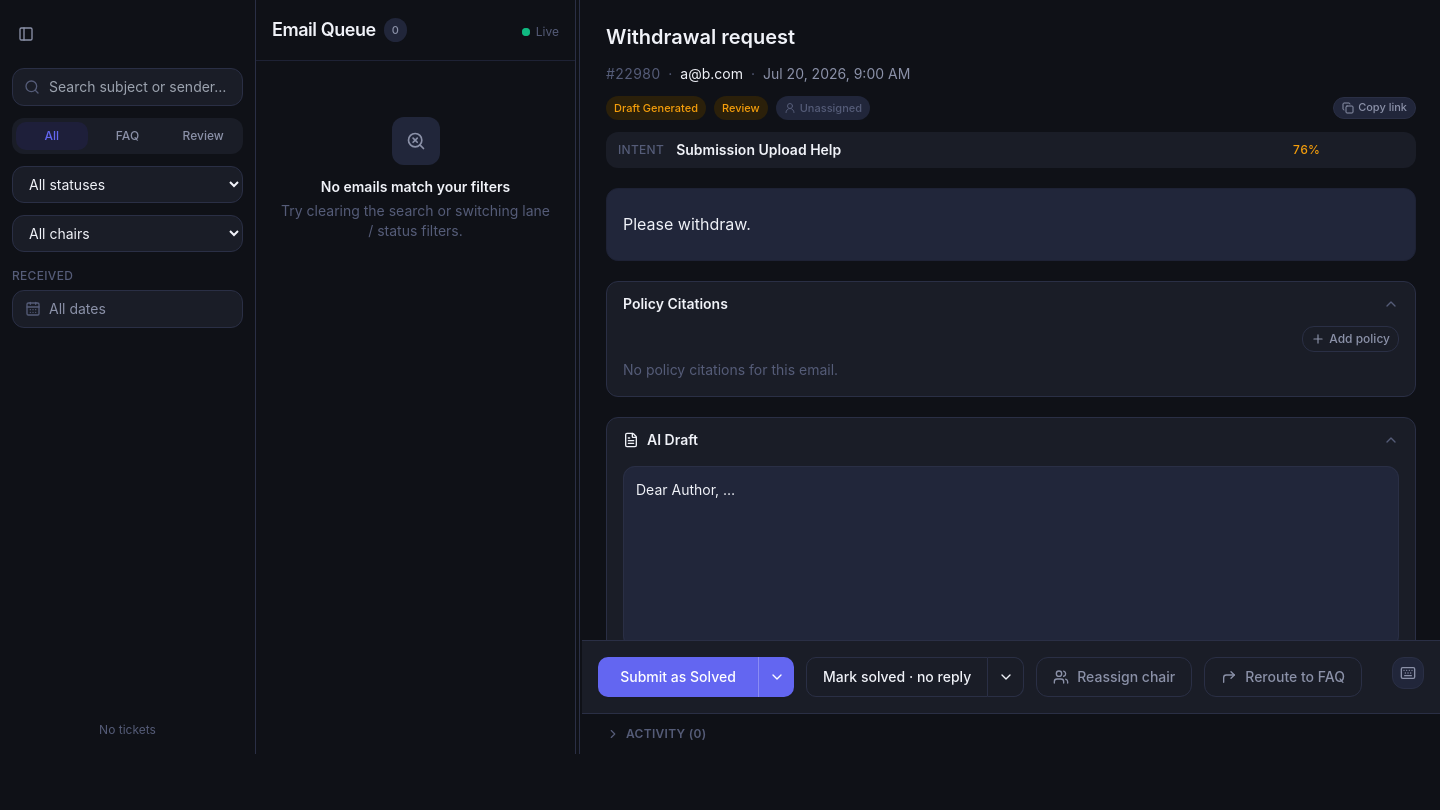
Test: forced-policy outcome banner › false → a visible warning, clearly distinct from success
Click the button "Add policy": (1351, 339) [1302,326,1399,352]
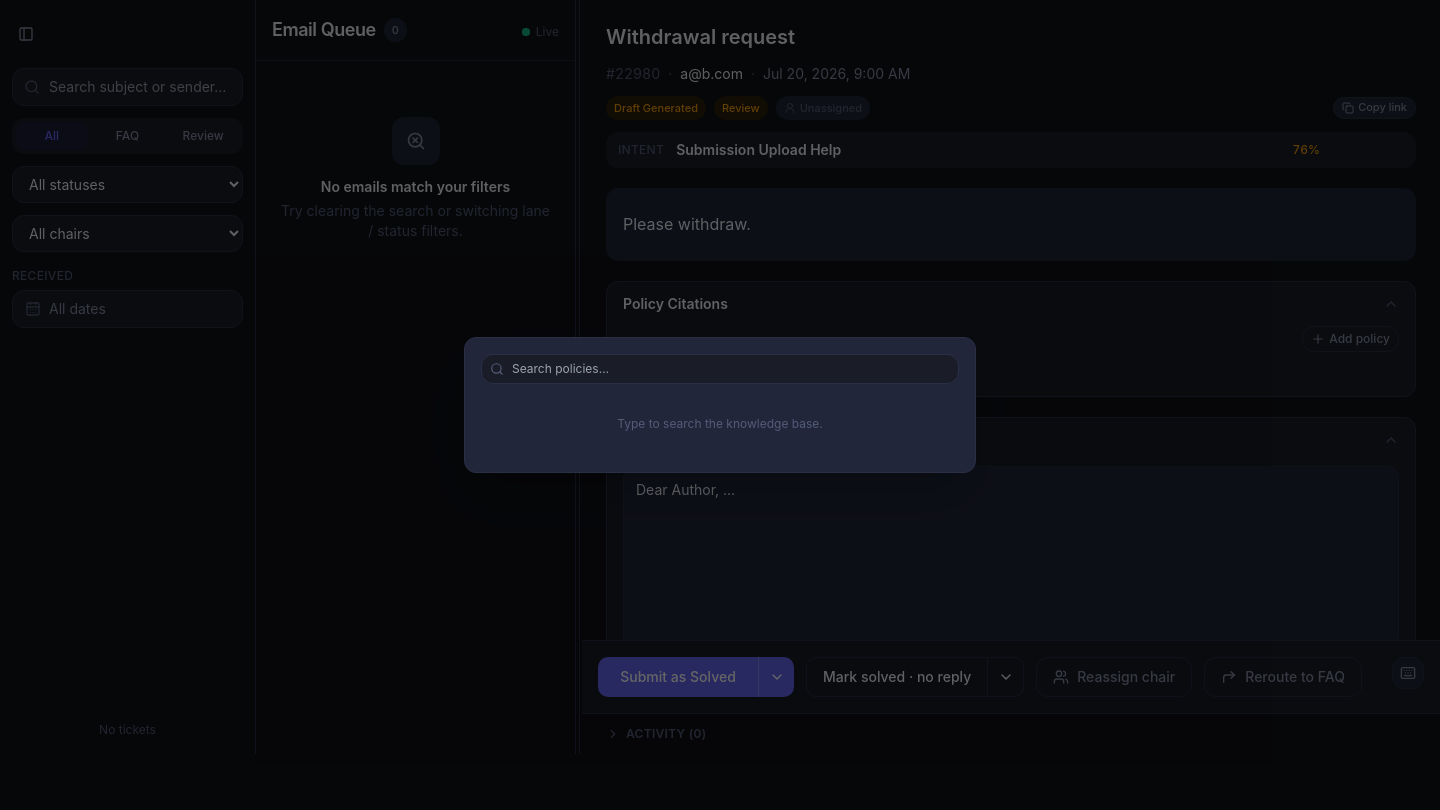
In the dropdown labelled "Search policies": (731, 369) [512,361,950,377], type "deletion"
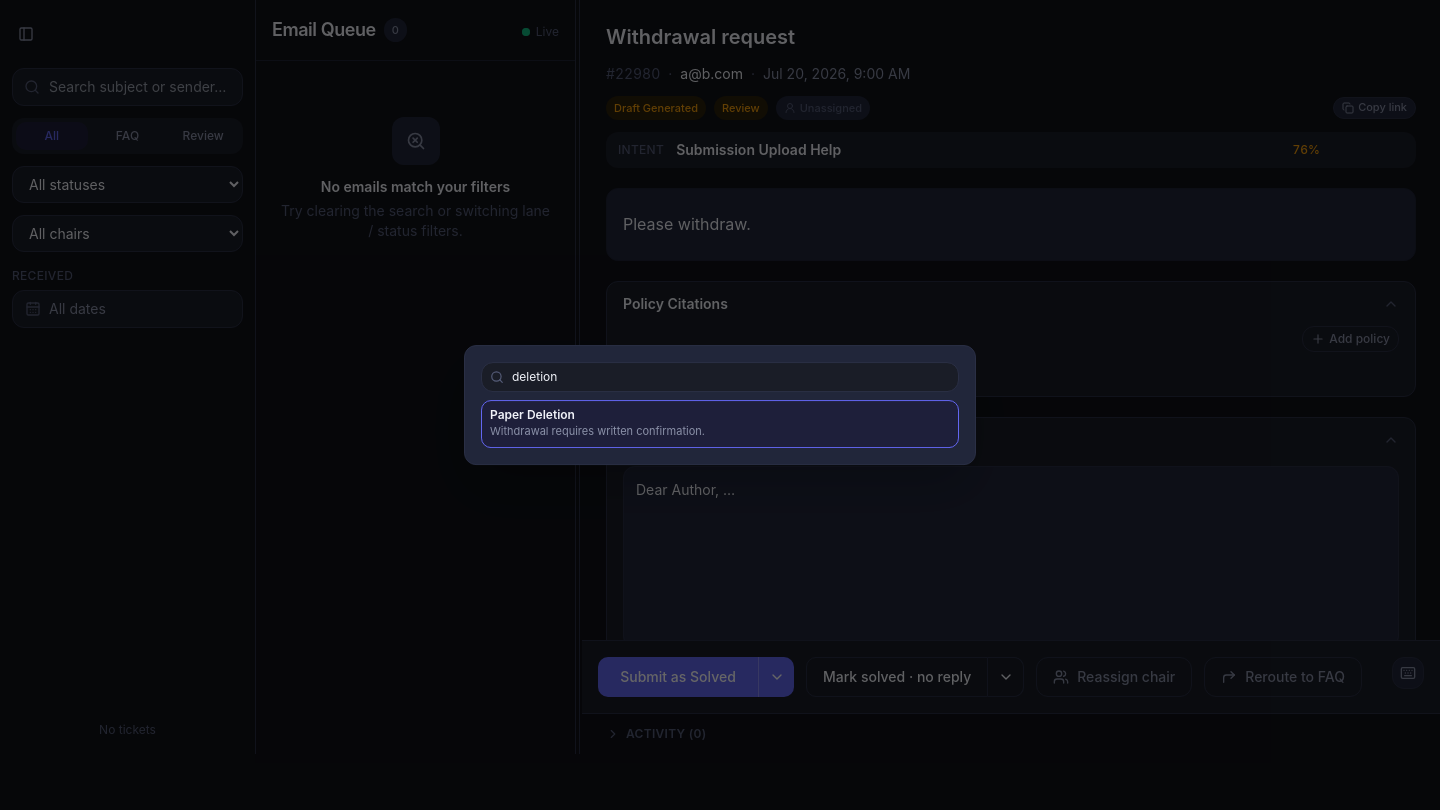
Click the text "Paper Deletion": (532, 415) [490,407,575,422]
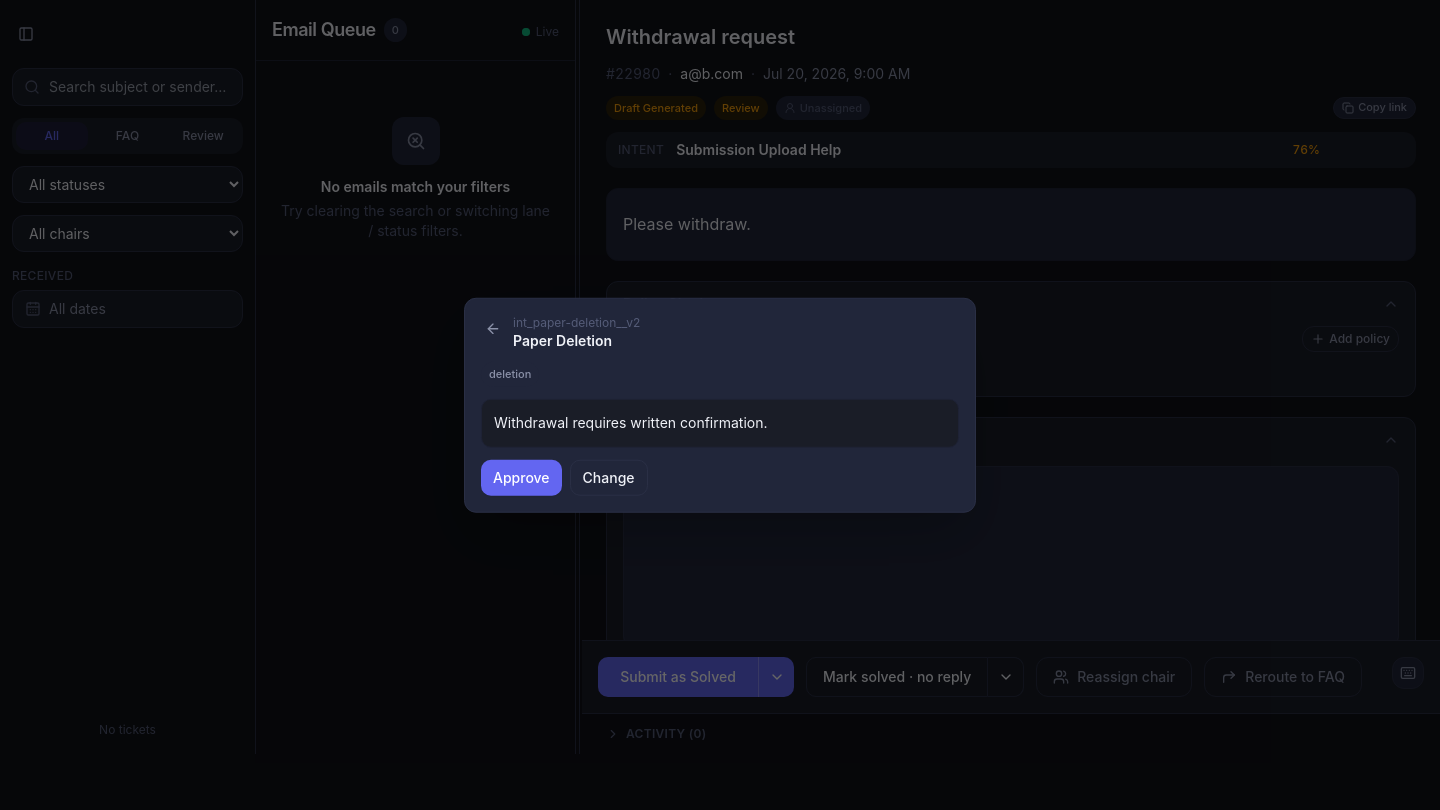
Click the button "Approve": (521, 477) [481,459,562,495]
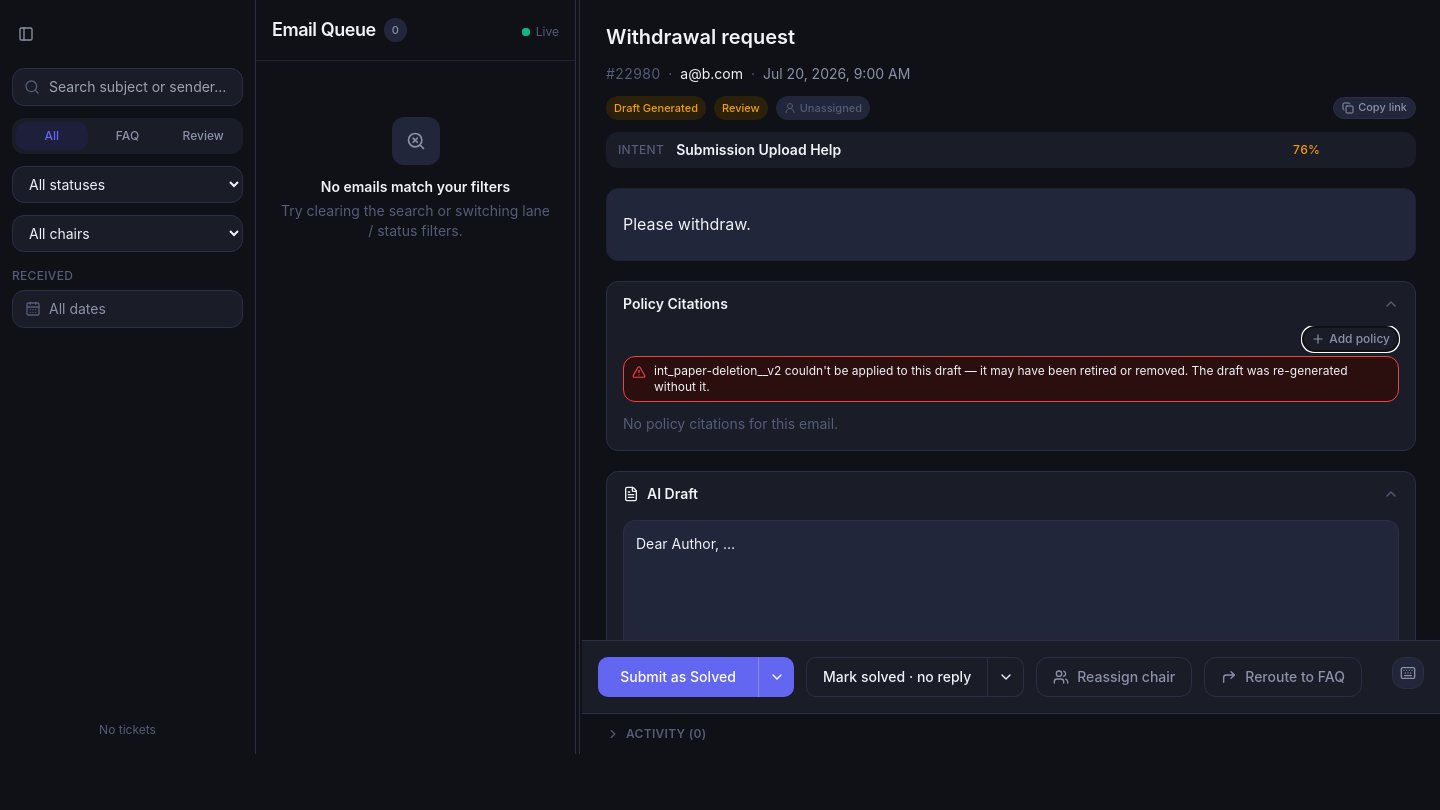
Check: the text "couldn't be applied to this draft" is shown, box [654,363,1348,394]
Check: the message is shown, box [623,356,1399,402]
